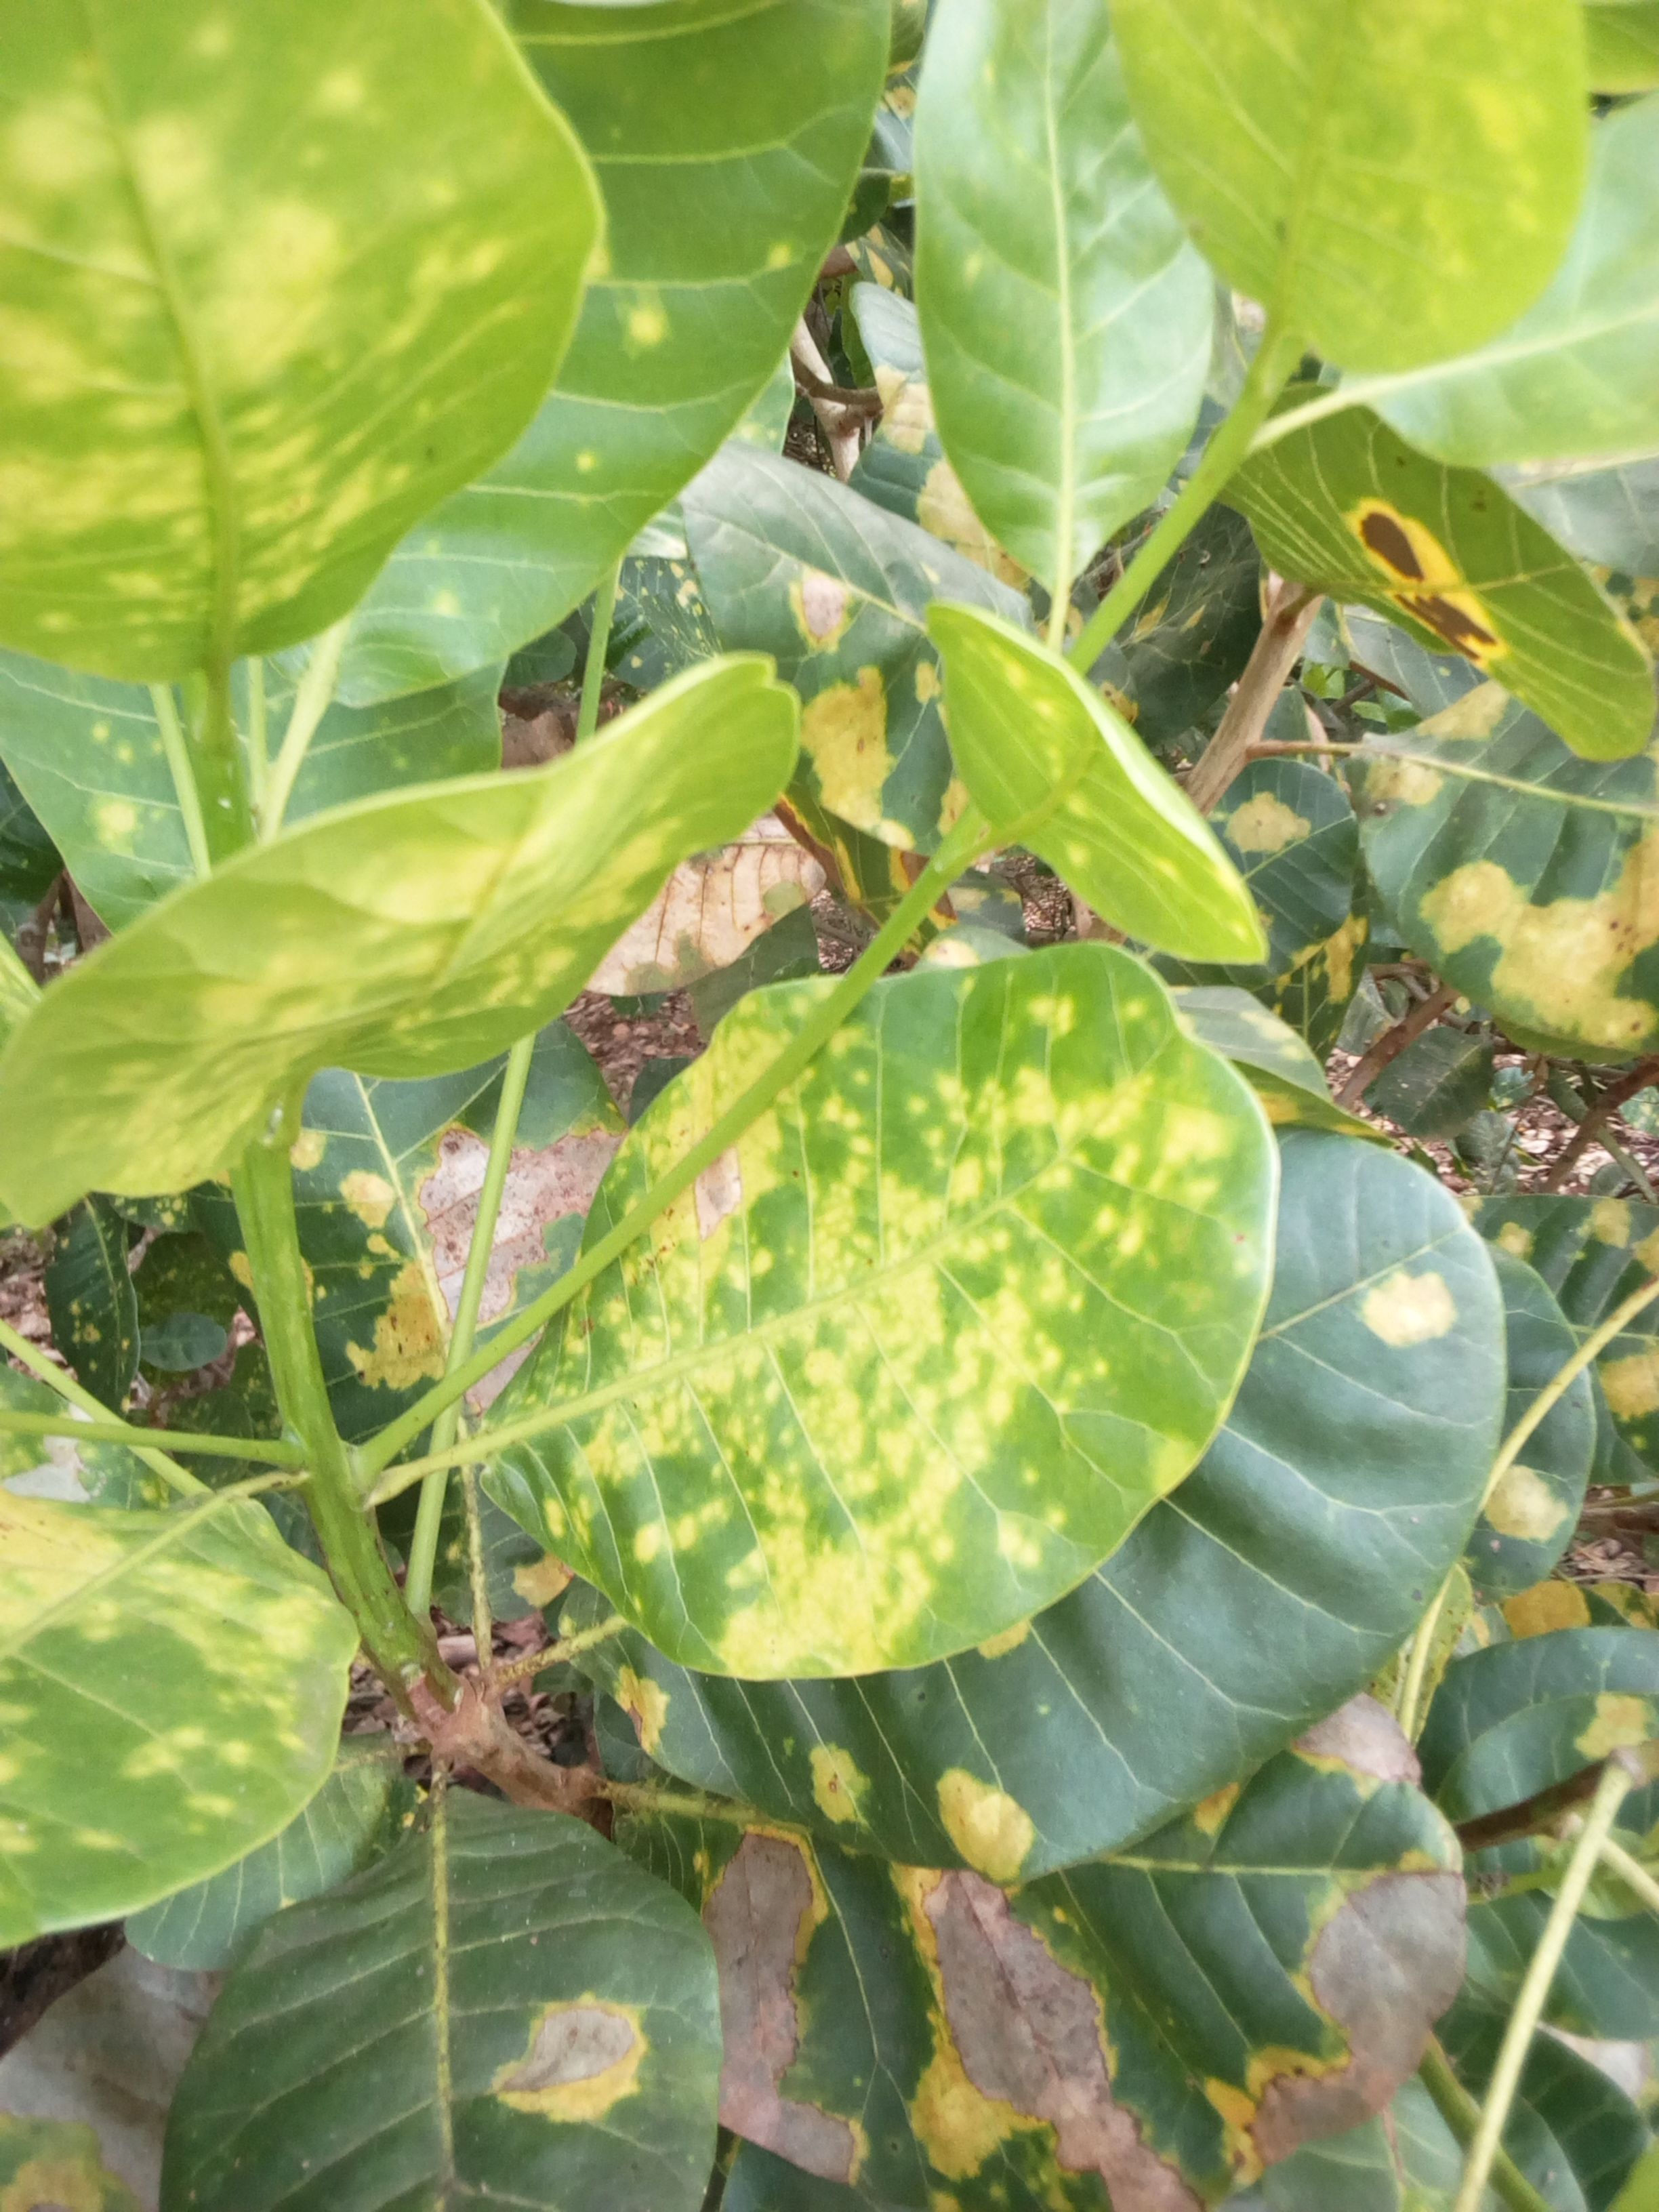Carence minérale: (545, 1137, 1640, 1883), (460, 934, 1290, 1693), (0, 648, 887, 1289), (3, 0, 629, 662), (0, 1454, 406, 1952)
